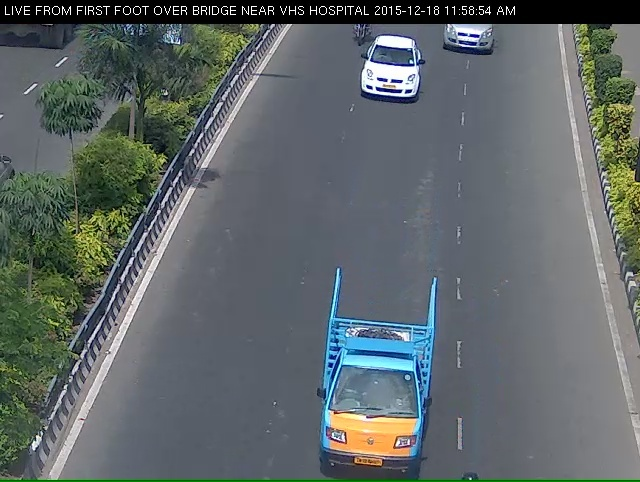Auto: (315, 305, 427, 475)
Car: (365, 44, 415, 111), (436, 22, 498, 64)
